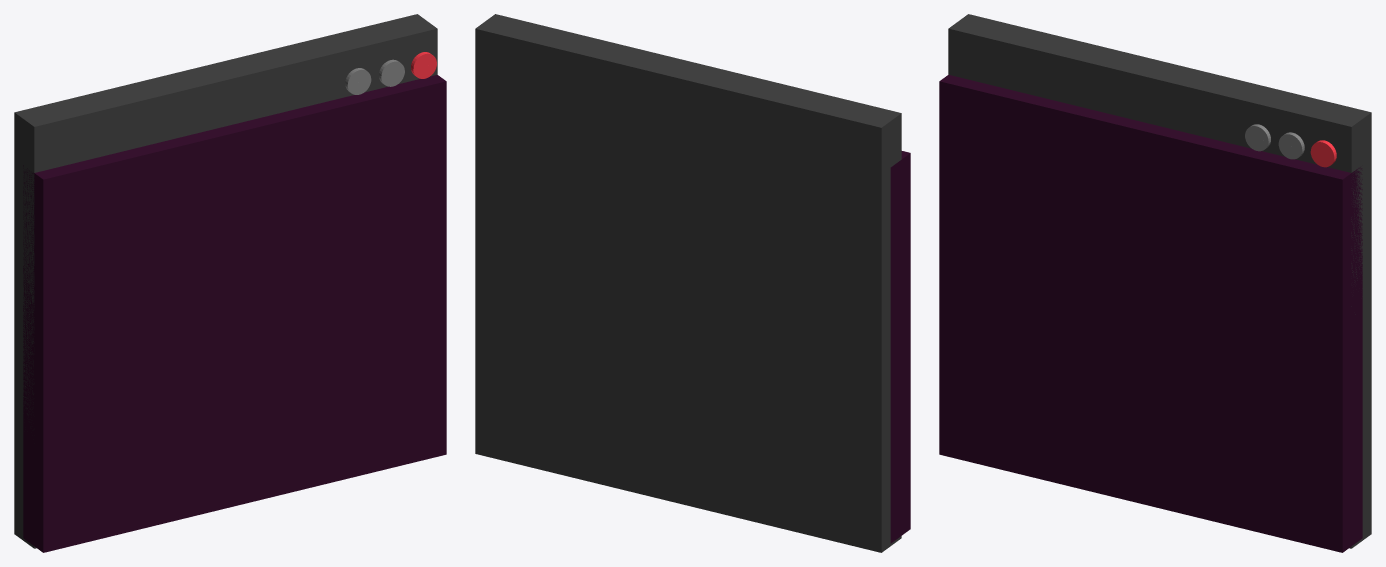
The model's file is terminal.fbx.
3 views of the same model, side by side, from view 1: azimuth 30°, elevation 25°; view 2: azimuth 150°, elevation 25°; view 3: azimuth 330°, elevation 25° (orthographic).
Visible parts, largest first — view 1: 큐브.002, 큐브, 큐브.003, 큐브.001, 큐브.004; view 2: 큐브, 큐브.002; view 3: 큐브.002, 큐브, 큐브.003, 큐브.004, 큐브.001.
Part boxes in pixels (x1,y1,x2,y2): 큐브.002: (23, 74, 446, 552); 큐브: (14, 14, 437, 548); 큐브.003: (379, 59, 404, 86); 큐브.001: (345, 68, 371, 94); 큐브.004: (411, 52, 436, 78); 큐브: (475, 14, 901, 552); 큐브.002: (890, 151, 910, 543); 큐브.002: (939, 74, 1362, 552); 큐브: (948, 14, 1371, 548); 큐브.003: (1278, 132, 1304, 159); 큐브.004: (1310, 140, 1336, 167); 큐브.001: (1245, 124, 1270, 151).
Bounding box in the file's own units: 200 × 200 × 24.9.
